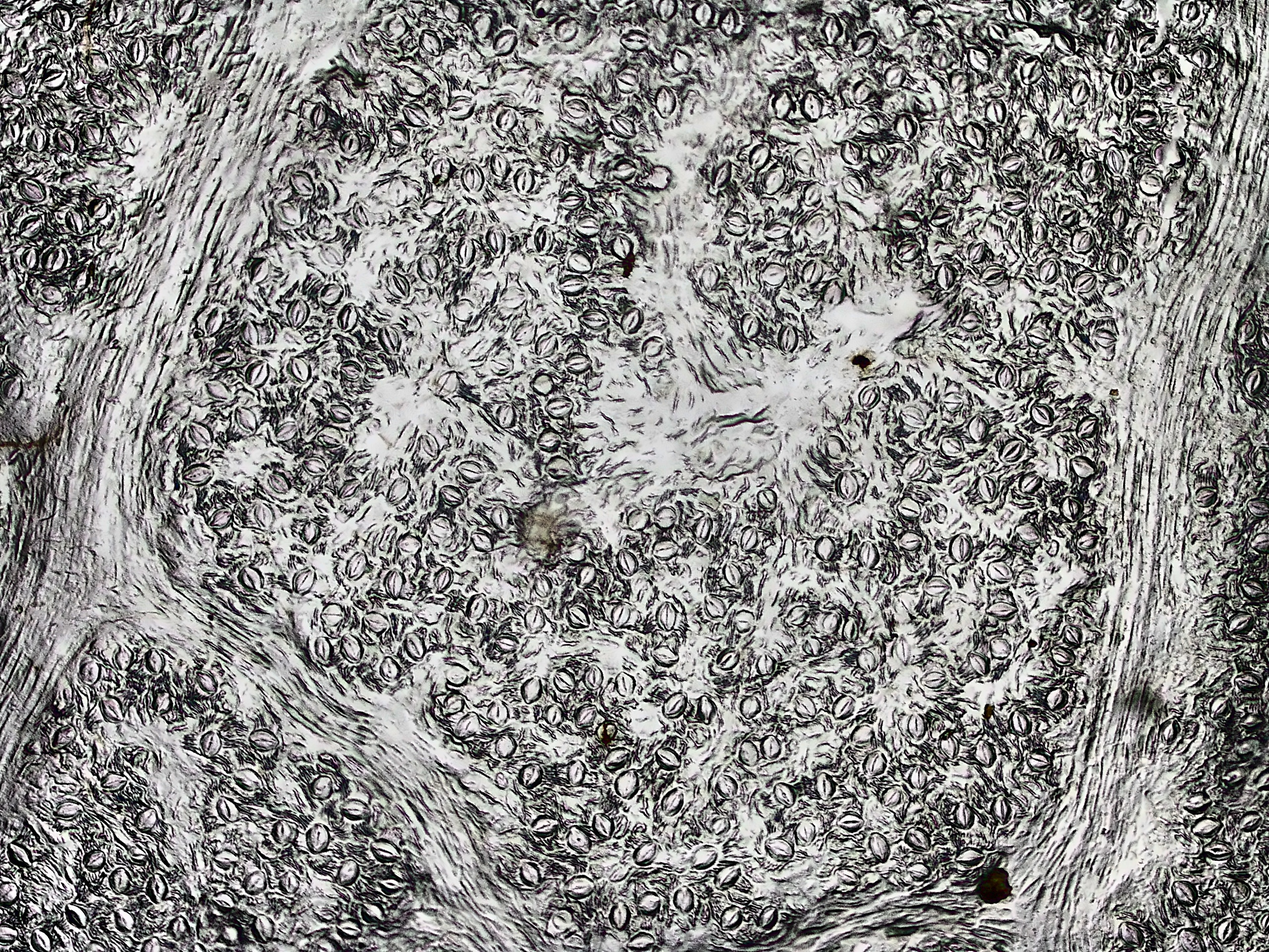stomata: (613, 768, 642, 800), (1173, 926, 1208, 952), (83, 47, 114, 76), (1117, 920, 1149, 948), (179, 463, 216, 486), (85, 81, 112, 112), (446, 94, 476, 121), (653, 86, 677, 119), (46, 4, 75, 31), (373, 833, 400, 862), (414, 253, 439, 284), (497, 284, 528, 309), (771, 778, 796, 809), (653, 745, 684, 770), (688, 842, 719, 867), (765, 837, 796, 862), (572, 212, 604, 236), (777, 321, 801, 353), (519, 674, 543, 706), (614, 668, 638, 700), (865, 829, 889, 861), (1050, 29, 1077, 57), (905, 824, 933, 851), (545, 454, 575, 479), (802, 89, 824, 123), (558, 273, 590, 296), (456, 460, 488, 483), (946, 535, 974, 561), (78, 658, 104, 686), (307, 821, 329, 854), (291, 566, 316, 595), (102, 0, 126, 30), (23, 122, 47, 152), (748, 140, 772, 170), (1071, 223, 1095, 253), (546, 136, 567, 170), (998, 192, 1029, 215), (405, 632, 428, 663), (494, 731, 517, 762), (534, 223, 556, 255), (812, 770, 834, 802), (612, 69, 639, 95), (610, 112, 636, 139), (852, 32, 878, 59), (238, 566, 265, 592), (568, 826, 594, 853), (89, 195, 114, 223), (66, 265, 91, 293), (188, 418, 216, 443), (1227, 876, 1252, 904), (895, 495, 924, 519), (660, 787, 684, 816), (247, 358, 268, 391), (1239, 367, 1262, 397), (161, 34, 180, 70), (961, 122, 986, 149), (1149, 62, 1176, 87), (660, 694, 687, 719), (717, 647, 744, 672), (192, 669, 219, 694), (935, 732, 962, 757), (546, 396, 574, 420), (388, 479, 412, 507), (52, 678, 73, 710), (1171, 881, 1199, 905), (620, 29, 649, 52), (564, 250, 593, 273), (252, 913, 275, 942), (956, 847, 985, 870), (520, 858, 543, 887), (245, 728, 280, 747), (460, 162, 482, 192), (648, 646, 681, 666), (340, 799, 373, 819), (1191, 815, 1221, 837), (148, 873, 169, 904), (565, 876, 596, 897), (386, 274, 412, 299), (1000, 438, 1026, 463), (66, 903, 92, 928), (552, 19, 579, 43), (770, 91, 794, 118), (1028, 402, 1055, 426), (235, 766, 262, 790), (108, 866, 132, 893), (991, 791, 1010, 825), (378, 326, 401, 354), (362, 612, 390, 635), (217, 795, 240, 823), (720, 5, 740, 37), (288, 298, 308, 330), (395, 533, 427, 553), (894, 112, 916, 141), (1043, 134, 1065, 163), (610, 901, 632, 930), (7, 70, 28, 100), (1235, 312, 1256, 342), (635, 888, 660, 913), (173, 1, 199, 25), (65, 209, 89, 235), (420, 30, 444, 56), (841, 174, 867, 198), (653, 604, 677, 630), (52, 722, 76, 748), (317, 283, 344, 306), (1036, 258, 1059, 285), (822, 277, 845, 304), (431, 564, 454, 591), (8, 839, 31, 866), (456, 237, 476, 268), (1020, 57, 1042, 85), (435, 371, 457, 399), (973, 738, 995, 766), (346, 550, 367, 579), (1181, 790, 1210, 811), (1214, 915, 1235, 944), (486, 227, 505, 259), (524, 606, 543, 638), (493, 31, 518, 55), (690, 0, 714, 25), (725, 212, 750, 236), (859, 385, 883, 410), (288, 356, 312, 381), (336, 477, 361, 501), (313, 635, 333, 665), (1233, 671, 1263, 691), (1207, 690, 1227, 720), (863, 751, 887, 776), (895, 239, 921, 262), (638, 334, 664, 357), (566, 351, 592, 374), (100, 699, 126, 722), (573, 701, 596, 727), (404, 104, 431, 126), (947, 66, 969, 93), (1067, 77, 1089, 104), (1134, 221, 1156, 248), (1192, 485, 1219, 507), (1228, 613, 1255, 635), (577, 309, 610, 327), (378, 878, 411, 896), (1224, 766, 1251, 788), (954, 801, 976, 828), (838, 469, 857, 500), (342, 632, 361, 663), (764, 166, 785, 194), (969, 413, 990, 441), (609, 602, 630, 630), (674, 888, 695, 916), (935, 262, 955, 291), (467, 593, 487, 622), (1000, 151, 1024, 175), (565, 603, 589, 627), (42, 64, 65, 89), (52, 127, 75, 152), (438, 0, 463, 23), (401, 76, 426, 99), (290, 170, 315, 193), (433, 158, 456, 183), (981, 264, 1006, 287), (620, 306, 643, 331), (321, 603, 346, 626), (605, 745, 630, 768), (968, 42, 987, 72), (741, 311, 760, 341), (43, 246, 64, 273), (1106, 250, 1127, 277), (1071, 416, 1098, 437), (419, 432, 440, 459), (438, 484, 465, 505), (718, 773, 739, 800), (609, 160, 637, 180), (1021, 328, 1049, 348), (986, 561, 1014, 581), (556, 666, 576, 694), (338, 859, 358, 887), (1106, 145, 1124, 176), (698, 695, 716, 726), (911, 3, 935, 26), (982, 99, 1005, 123), (1056, 203, 1079, 227), (515, 321, 538, 345), (990, 636, 1014, 659), (135, 807, 158, 831), (83, 848, 106, 872), (737, 696, 761, 719), (715, 863, 738, 887), (338, 303, 357, 332), (206, 306, 225, 335), (235, 404, 254, 433), (345, 451, 374, 470), (618, 548, 637, 577), (1205, 837, 1234, 856), (671, 48, 693, 73), (841, 139, 863, 164), (1136, 29, 1158, 54), (253, 502, 275, 527), (200, 731, 222, 756), (311, 774, 333, 799), (1071, 456, 1097, 477), (441, 662, 467, 683), (153, 690, 174, 716), (634, 840, 655, 866), (2, 116, 20, 146), (327, 401, 354, 421), (383, 570, 403, 597), (838, 811, 865, 831), (519, 760, 539, 787), (584, 663, 603, 691), (1241, 574, 1264, 597), (244, 871, 267, 894), (878, 782, 901, 805), (883, 65, 905, 89), (763, 262, 785, 286), (266, 470, 288, 494), (653, 536, 677, 558), (279, 871, 301, 895), (1029, 748, 1051, 772), (129, 31, 144, 66), (20, 179, 45, 200), (559, 190, 584, 211), (210, 346, 235, 367), (538, 425, 559, 450), (1240, 808, 1261, 833), (761, 733, 782, 758), (594, 813, 615, 838), (906, 453, 924, 482), (739, 738, 757, 767), (568, 759, 586, 788), (513, 168, 533, 194), (870, 141, 890, 167), (802, 258, 821, 285), (898, 406, 925, 425), (922, 575, 949, 594), (205, 378, 232, 397), (530, 816, 557, 835), (1073, 270, 1095, 293), (270, 820, 292, 843), (823, 16, 841, 44), (1010, 0, 1031, 24), (1135, 104, 1159, 125), (493, 402, 514, 426), (302, 455, 326, 476), (208, 506, 232, 527), (458, 710, 476, 738), (908, 712, 926, 740), (17, 215, 42, 235), (1059, 495, 1079, 520), (379, 656, 399, 681), (58, 799, 83, 819), (212, 848, 237, 868), (211, 891, 236, 911), (96, 773, 129, 788), (387, 13, 406, 39), (712, 161, 731, 187), (1110, 203, 1129, 229), (957, 311, 983, 330), (241, 319, 260, 345), (537, 331, 556, 357), (317, 430, 343, 449), (491, 502, 510, 528), (115, 645, 134, 671), (146, 648, 165, 674), (835, 694, 854, 720), (1161, 714, 1178, 743), (353, 200, 371, 227), (320, 245, 347, 263), (822, 608, 840, 635), (627, 931, 654, 949), (2, 378, 24, 400), (495, 109, 517, 131), (387, 125, 409, 147), (823, 435, 845, 457), (565, 96, 588, 117), (339, 132, 360, 155), (489, 153, 510, 176), (441, 693, 464, 714), (655, 504, 676, 527), (758, 486, 779, 509), (852, 722, 875, 743), (612, 236, 632, 260), (996, 366, 1016, 390), (979, 474, 995, 504), (723, 561, 743, 585), (702, 266, 719, 294), (527, 374, 552, 393), (1047, 686, 1066, 711), (359, 902, 384, 921), (1013, 710, 1032, 735), (905, 861, 930, 880), (897, 531, 923, 549), (578, 563, 596, 589), (335, 921, 361, 939), (988, 601, 1017, 617), (931, 206, 953, 227), (794, 147, 814, 170), (944, 390, 964, 413), (941, 435, 964, 455), (454, 298, 477, 318), (469, 533, 492, 553), (757, 653, 777, 676), (31, 929, 51, 952), (795, 695, 815, 718), (250, 259, 269, 283), (1192, 46, 1211, 70), (935, 166, 954, 190), (1250, 530, 1269, 554), (532, 572, 551, 596), (786, 605, 810, 624), (804, 181, 822, 206), (1081, 158, 1099, 183), (922, 671, 947, 689), (0, 878, 18, 903), (1105, 28, 1122, 54), (561, 543, 587, 560), (739, 525, 756, 551), (893, 636, 910, 662), (315, 905, 341, 922), (278, 200, 299, 221), (1065, 626, 1086, 647), (1247, 496, 1269, 516), (489, 701, 509, 723), (909, 765, 929, 787), (898, 211, 921, 230), (1056, 320, 1075, 343), (432, 518, 455, 537), (494, 633, 517, 652), (857, 650, 876, 673), (117, 908, 136, 931), (81, 121, 99, 145), (969, 239, 987, 263), (1014, 524, 1038, 542), (857, 543, 875, 567), (721, 904, 739, 928), (763, 221, 788, 238), (139, 935, 164, 952), (471, 15, 491, 36), (1115, 68, 1129, 98), (1020, 469, 1040, 490), (628, 508, 648, 529), (1052, 647, 1073, 667), (310, 104, 329, 126), (987, 20, 1009, 39), (858, 116, 880, 135), (706, 594, 725, 616), (803, 635, 822, 657), (169, 915, 188, 937), (759, 904, 778, 926), (694, 516, 710, 542), (842, 615, 858, 641), (1076, 530, 1099, 548), (1240, 711, 1263, 729), (1093, 330, 1117, 347), (39, 286, 64, 302), (1181, 0, 1201, 20), (128, 843, 148, 863), (487, 355, 510, 372), (546, 703, 561, 729), (1151, 140, 1167, 164), (339, 363, 363, 379), (970, 652, 986, 676), (20, 247, 38, 268), (1031, 221, 1049, 242), (274, 422, 295, 440), (1103, 281, 1125, 298), (855, 79, 871, 102), (1255, 448, 1269, 474), (1143, 175, 1162, 194), (734, 610, 753, 629), (304, 274, 324, 292), (817, 537, 832, 561), (658, 0, 675, 21), (0, 924, 17, 945), (1077, 1, 1096, 19), (363, 353, 382, 371), (305, 522, 320, 544), (837, 866, 856, 883), (216, 550, 233, 568), (801, 820, 815, 840), (1261, 324, 1269, 352), (1258, 913, 1269, 933), (1119, 0, 1138, 9)
